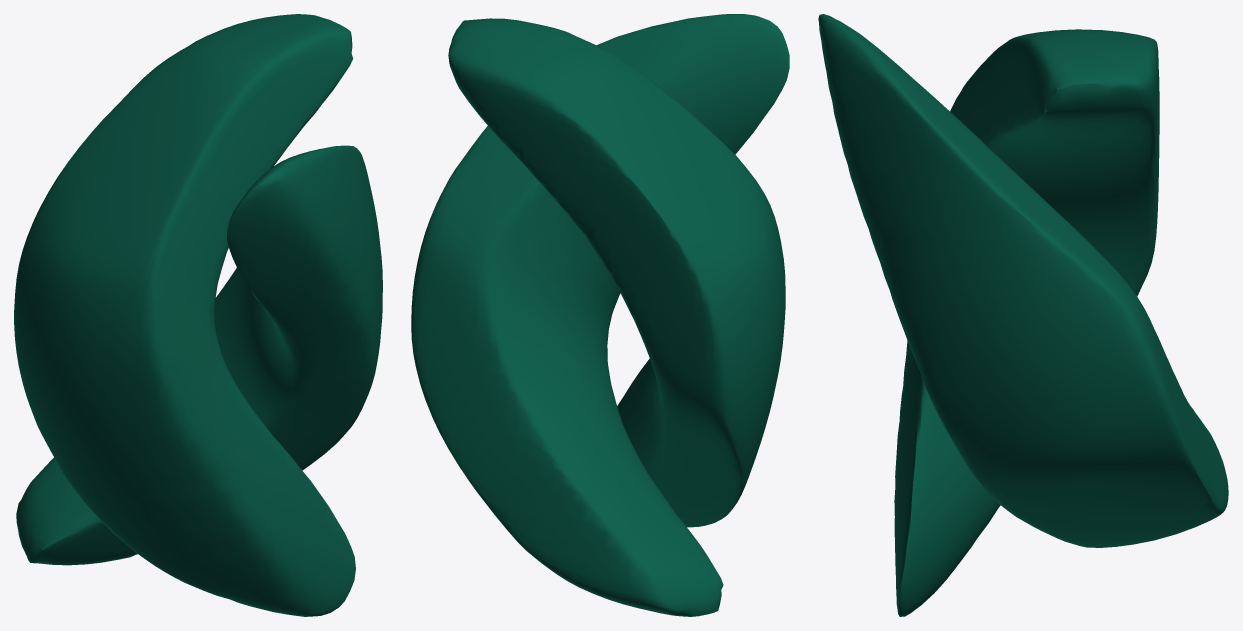
3 views of the same model, side by side, from view 1: azimuth 30°, elevation 25°; view 2: azimuth 150°, elevation 25°; view 3: azimuth 270°, elevation 25° (orthographic). The views are drawn at different scales.
Visible parts, largest first — view 1: abstr; view 2: abstr; view 3: abstr.
Boxes of the visible parts, <box> form: abstr: <box>14,14,382,616</box>; abstr: <box>411,14,789,616</box>; abstr: <box>818,14,1228,616</box>.
Size of the model in its own units: 233 by 363 by 229.
